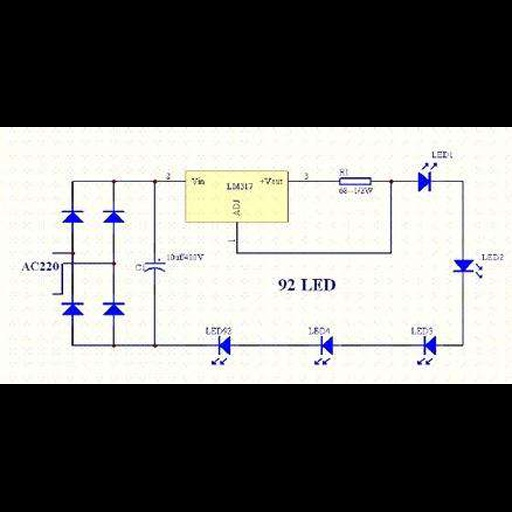firstdiode: (53, 300, 86, 321), (57, 206, 87, 226), (99, 301, 128, 319), (101, 207, 127, 226)
firstled: (415, 333, 443, 368), (413, 160, 439, 196), (208, 336, 238, 367), (449, 255, 483, 282), (313, 334, 338, 370)
firstresistance: (336, 175, 374, 187)
